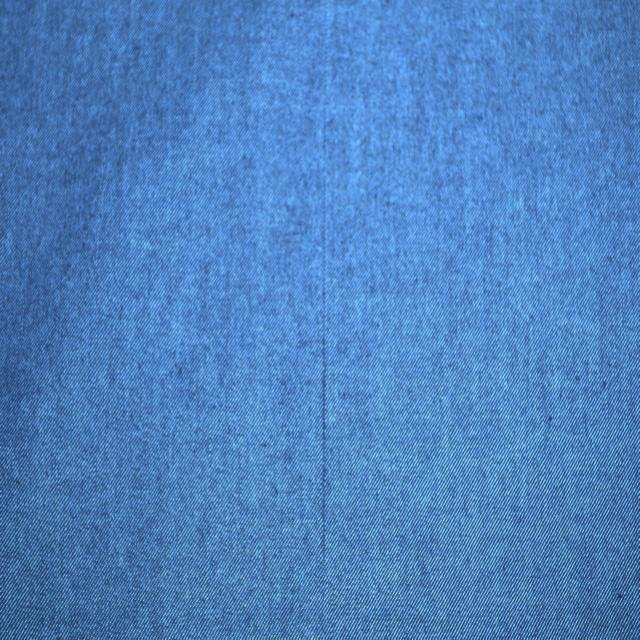pulled_or_thick_thread: (318, 127, 330, 561)
